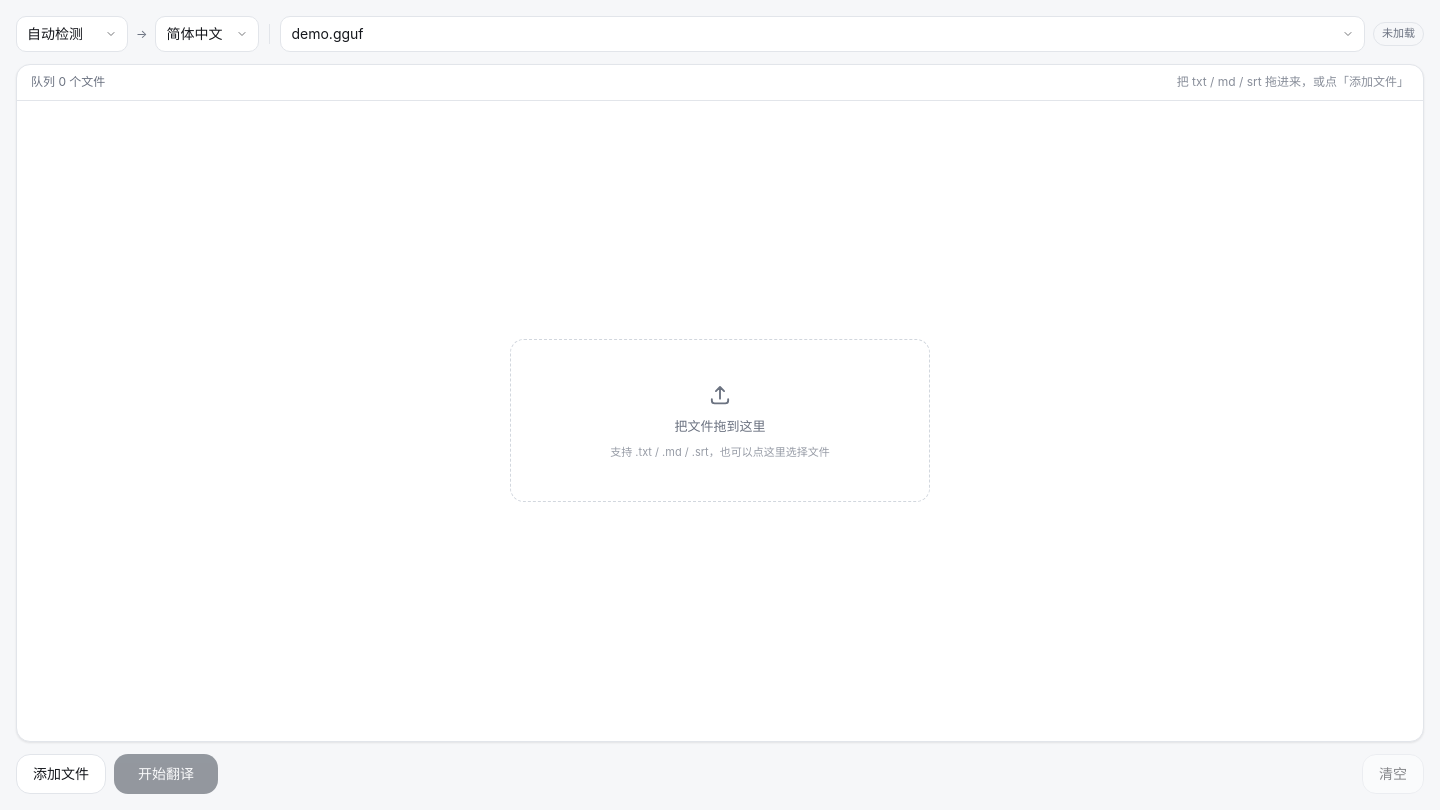
Scenario: Batch · 断点续传的界面反馈 › 续传时显示「续」标记与已恢复的段数
The image size is (1440, 810).
Click the button "添加文件" at (61, 774), box [16,754,106,794]
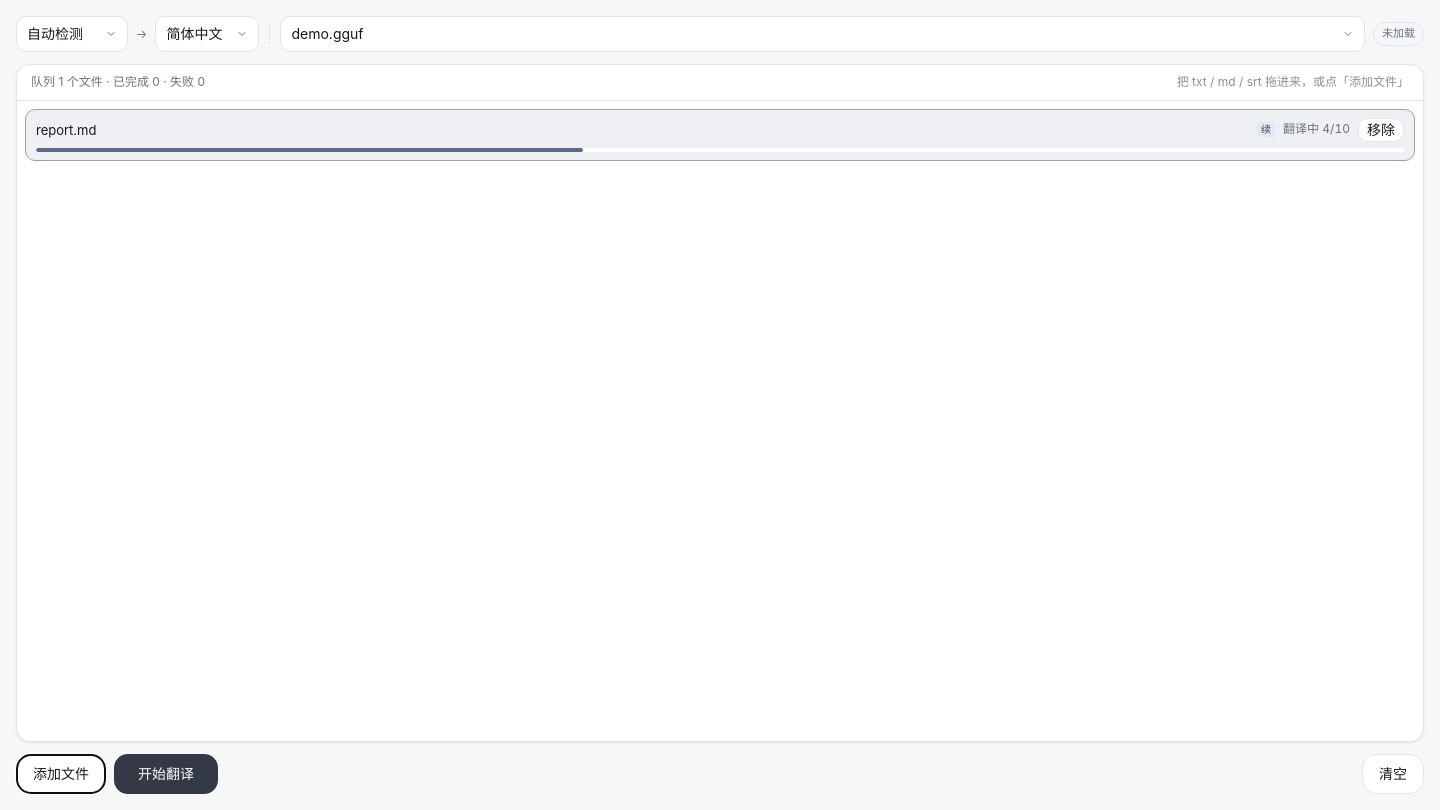
expect the text "report.md" is shown: met, box [36,122,96,138]
expect the text "续" is shown: met, box [1257,122,1275,137]
expect the text "翻译中 4/10" is shown: met, box [1283,120,1350,139]
